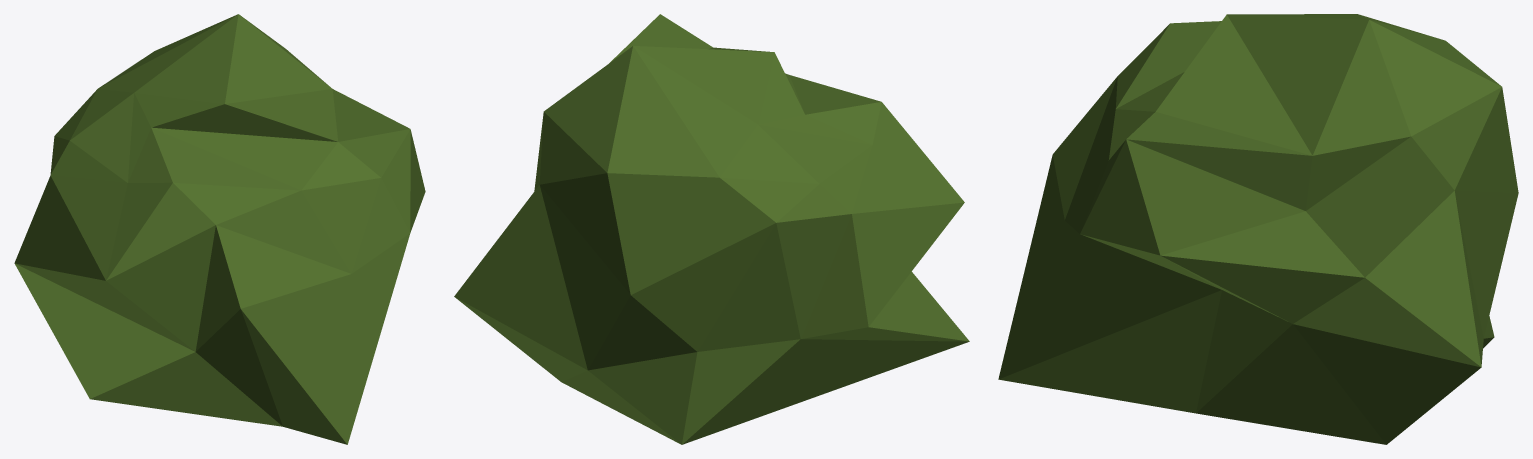
Rendered from bush3.fbx.
3 renders of one model, left to right at view 1: azimuth 30°, elevation 25°; view 2: azimuth 150°, elevation 25°; view 3: azimuth 270°, elevation 25°, orthographic. The views are drawn at different scales.
Parts seen in each view (by area): view 1: Bush; view 2: Bush; view 3: Bush.
Boxes of the visible parts, x1=… form: Bush: x1=14, y1=14, x2=425, y2=444; Bush: x1=454, y1=14, x2=969, y2=444; Bush: x1=998, y1=14, x2=1518, y2=444.
Size of the model in its own units: 152 by 133 by 161.
